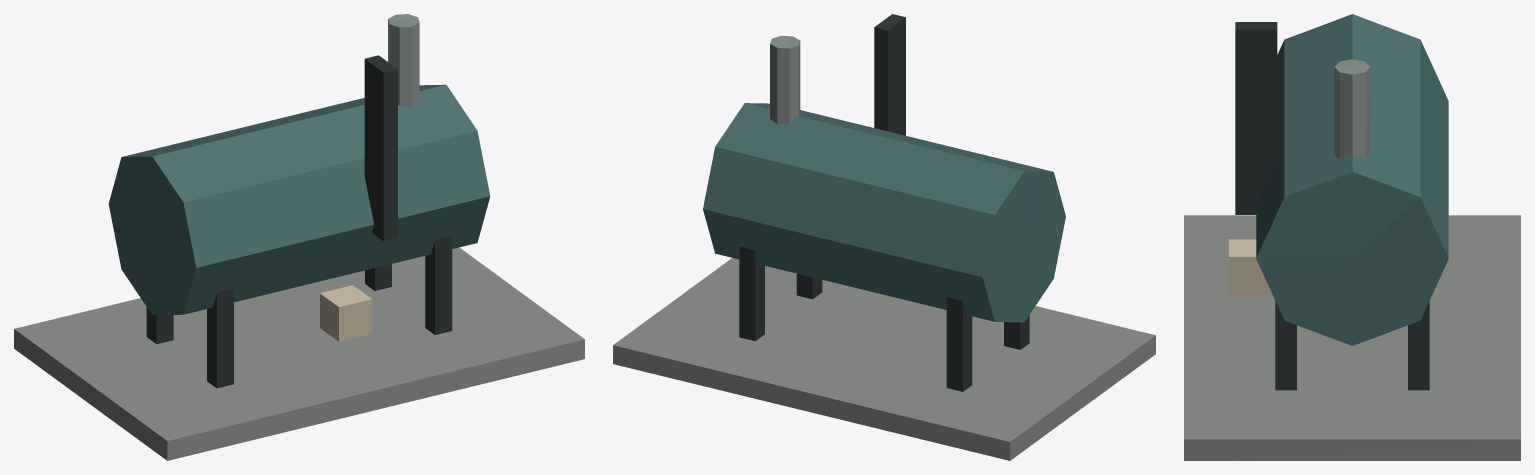
The model's file is lime-storage.source.glb.
3 renders of one model, left to right at view 1: azimuth 30°, elevation 25°; view 2: azimuth 150°, elevation 25°; view 3: azimuth 270°, elevation 25°, orthographic. The views are drawn at different scales.
Visible parts, largest first — view 1: lime-storage-containment-pad-mesh, lime-storage-horizontal-lime-silo-mesh, lime-storage-side-ladder-mesh, lime-storage-silo-leg-1.15-0.55-mesh, lime-storage-fill-pipe-mesh, lime-storage-discharge-valve-mesh, lime-storage-silo-leg--1.15-0.55-mesh, lime-storage-silo-leg--1.15--0.55-mesh, lime-storage-silo-leg-1.15--0.55-mesh; view 2: lime-storage-containment-pad-mesh, lime-storage-horizontal-lime-silo-mesh, lime-storage-side-ladder-mesh, lime-storage-fill-pipe-mesh, lime-storage-silo-leg--1.15--0.55-mesh, lime-storage-silo-leg-1.15--0.55-mesh, lime-storage-silo-leg--1.15-0.55-mesh, lime-storage-silo-leg-1.15-0.55-mesh; view 3: lime-storage-containment-pad-mesh, lime-storage-horizontal-lime-silo-mesh, lime-storage-side-ladder-mesh, lime-storage-fill-pipe-mesh, lime-storage-discharge-valve-mesh, lime-storage-silo-leg-1.15--0.55-mesh, lime-storage-silo-leg-1.15-0.55-mesh.
Boxes of the visible parts, x1,y1,x2,y2 form: lime-storage-containment-pad-mesh: (14,247,584,460); lime-storage-horizontal-lime-silo-mesh: (108,84,490,315); lime-storage-side-ladder-mesh: (364,55,397,241); lime-storage-silo-leg-1.15-0.55-mesh: (425,235,452,334); lime-storage-fill-pipe-mesh: (388,14,419,107); lime-storage-discharge-valve-mesh: (320,285,372,341); lime-storage-silo-leg--1.15-0.55-mesh: (207,288,233,388); lime-storage-silo-leg--1.15--0.55-mesh: (146,307,173,344); lime-storage-silo-leg-1.15--0.55-mesh: (365,264,391,290); lime-storage-containment-pad-mesh: (613,258,1155,460); lime-storage-horizontal-lime-silo-mesh: (703,103,1065,322); lime-storage-side-ladder-mesh: (874,14,905,135); lime-storage-fill-pipe-mesh: (770,35,800,124); lime-storage-silo-leg--1.15--0.55-mesh: (946,297,972,391); lime-storage-silo-leg-1.15--0.55-mesh: (739,246,764,341); lime-storage-silo-leg--1.15-0.55-mesh: (1004,315,1029,349); lime-storage-silo-leg-1.15-0.55-mesh: (796,273,822,299); lime-storage-containment-pad-mesh: (1184,215,1520,460); lime-storage-horizontal-lime-silo-mesh: (1256,14,1448,345); lime-storage-side-ladder-mesh: (1235,22,1277,214); lime-storage-fill-pipe-mesh: (1334,59,1370,158); lime-storage-discharge-valve-mesh: (1229,239,1271,295); lime-storage-silo-leg-1.15--0.55-mesh: (1408,301,1429,390); lime-storage-silo-leg-1.15-0.55-mesh: (1275,301,1296,390).
Size of the model in its own units: 4.4 by 3.15 by 2.8.
